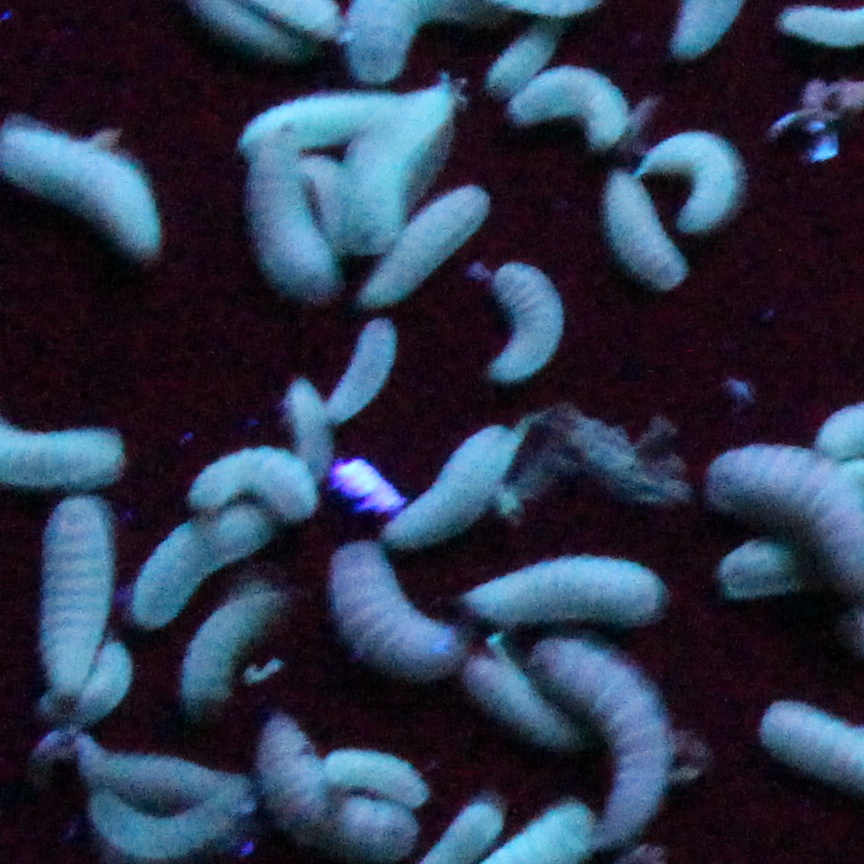larve: (266, 725, 413, 864), (546, 644, 648, 821), (717, 451, 864, 565), (127, 507, 266, 618), (353, 188, 487, 297), (353, 88, 452, 234), (350, 546, 453, 676), (388, 434, 506, 542), (650, 135, 746, 235), (194, 585, 269, 709), (464, 648, 562, 741), (43, 499, 95, 674), (80, 746, 232, 804), (95, 799, 231, 862), (480, 567, 657, 614), (197, 448, 315, 518), (518, 71, 631, 139), (262, 156, 318, 293), (492, 262, 555, 383), (602, 186, 676, 285), (331, 325, 395, 420), (243, 95, 373, 141), (60, 642, 136, 713), (724, 534, 808, 595), (336, 746, 431, 799), (483, 28, 566, 88), (292, 383, 331, 478), (311, 155, 348, 251)
